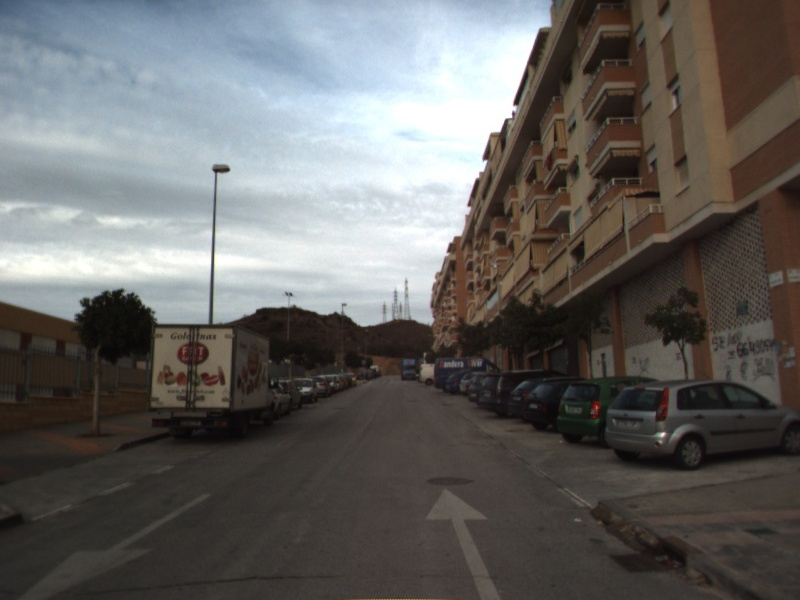STRAIGHT: (423, 485, 505, 600)
